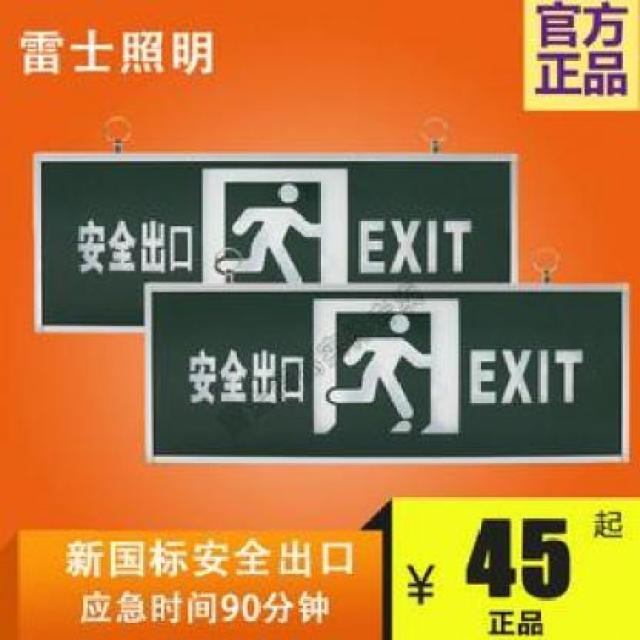exit_sign: (136, 280, 626, 466), (26, 154, 529, 332)
